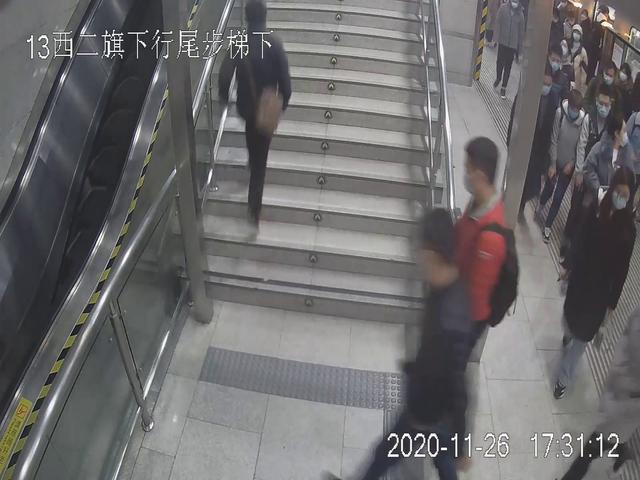person: (331, 203, 478, 480), (422, 134, 528, 459), (546, 166, 640, 398), (219, 1, 289, 213), (533, 92, 591, 241), (490, 1, 525, 98)
